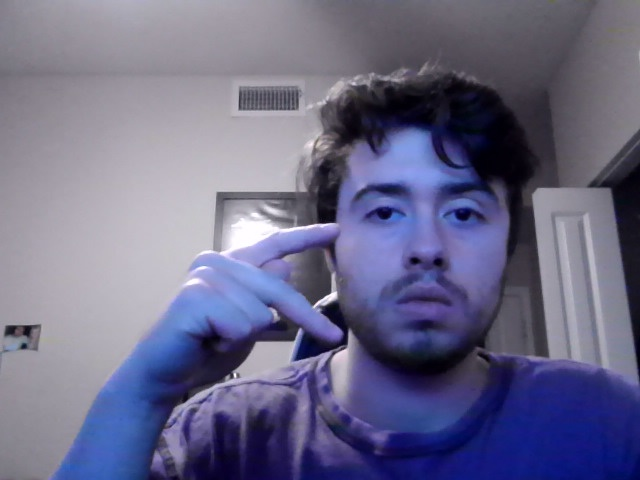p: (121, 222, 344, 414)
